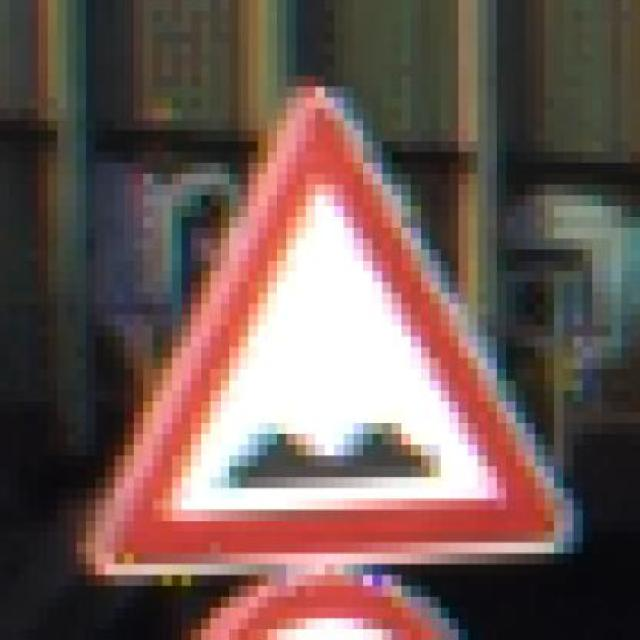Uneven Road: (76, 76, 582, 564)
